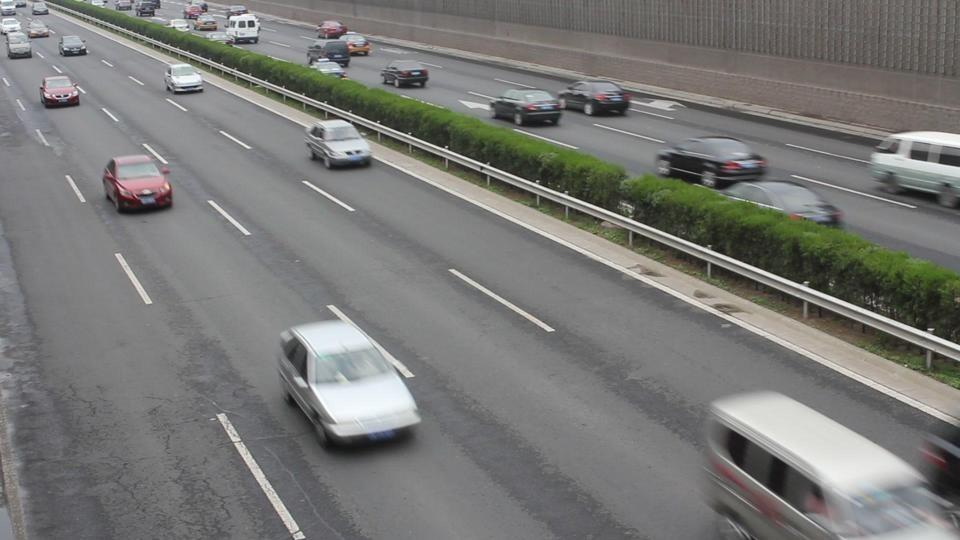car: (275, 311, 423, 450), (869, 129, 960, 208), (721, 179, 846, 229), (655, 135, 769, 188), (101, 152, 173, 212), (304, 118, 372, 169), (488, 87, 564, 127), (556, 79, 632, 117), (915, 431, 960, 493), (39, 74, 81, 108), (380, 60, 430, 88), (163, 63, 204, 94), (5, 31, 33, 59), (316, 19, 348, 39), (59, 35, 88, 56), (31, 1, 48, 16)
